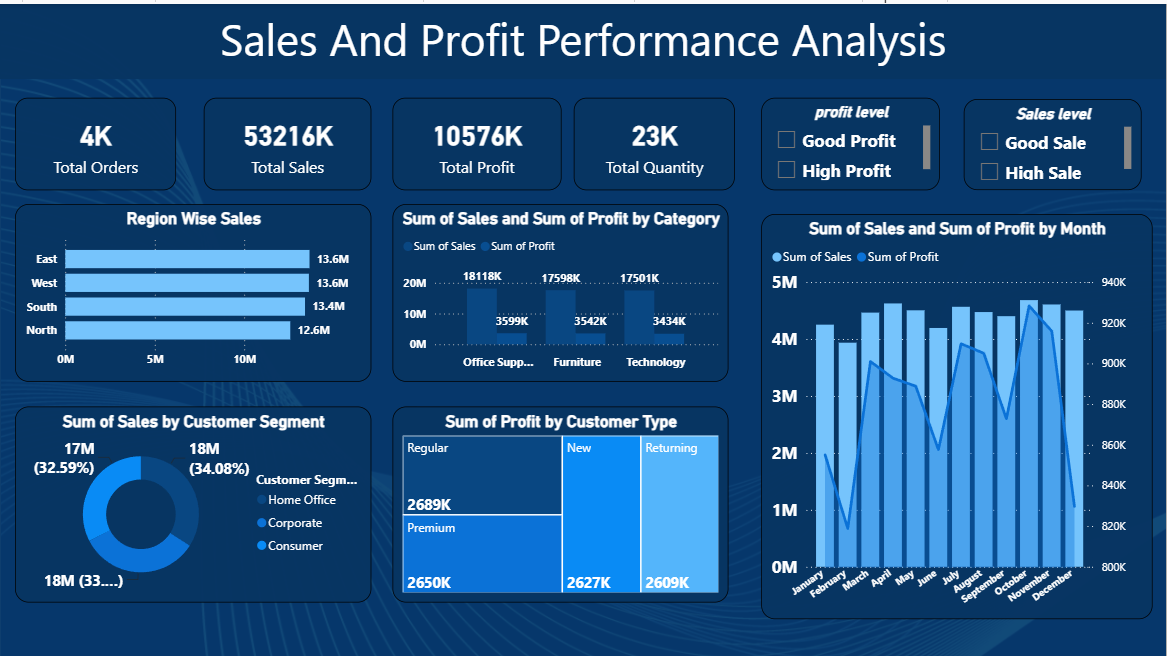

This screenshot's page, from the dashboard's own definition file:
{"tool":"powerbi","page":{"name":"Page 1","canvas":[1280,720],"ordinal":0},"visuals":[{"type":"textbox","box":[0,0,1280.3,82.3],"z":0},{"type":"card","fields":{"Values":["Superstore_Data_2_1.Total Sales"]},"box":[223.7,102.9,183.9,101.5],"z":1000},{"type":"card","fields":{"Values":["Superstore_Data_2_1.Total Orders"]},"box":[16.5,102.9,177,101.5],"z":2000},{"type":"card","fields":{"Values":["Superstore_Data_2_1.Total Profit"]},"box":[430.9,102.9,185.2,101.5],"z":3000},{"type":"card","fields":{"Values":["Superstore_Data_2_1.Total Quantity"]},"box":[629.8,102.9,177,101.5],"z":4000},{"type":"slicer","fields":{"Values":["Superstore_Data_2_1.Sales level"]},"box":[1058,104.3,194.9,100.2],"z":5000},{"type":"slicer","fields":{"Values":["Superstore_Data_2_1.Profit level"]},"box":[835.7,102.9,196.2,101.5],"z":6000},{"type":"barChart","title":"Region Wise Sales","fields":{"Category":["Superstore_Data_2_1.Region"],"Y":["Sum(Superstore_Data_2_1.Sales)"]},"box":[16.5,219.6,391.1,194.9],"z":7000},{"type":"clusteredColumnChart","fields":{"Category":["Superstore_Data_2_1.Category"],"Y":["Sum(Superstore_Data_2_1.Sales)","Sum(Superstore_Data_2_1.Profit)"]},"box":[430.9,219.6,369.1,194.9],"z":8000},{"type":"donutChart","fields":{"Category":["Superstore_Data_2_1.Customer Segment"],"Y":["Sum(Superstore_Data_2_1.Sales)"]},"box":[16.5,441.9,391.1,215.4],"z":9000},{"type":"treemap","fields":{"Group":["Superstore_Data_2_1.Customer Type"],"Values":["Sum(Superstore_Data_2_1.Profit)"]},"box":[430.9,441.9,369.1,215.4],"z":10000},{"type":"lineClusteredColumnComboChart","fields":{"Category":["Superstore_Data_2_1.Order Date.Variation.Date Hierarchy.Month"],"Y":["Sum(Superstore_Data_2_1.Sales)"],"Y2":["Sum(Superstore_Data_2_1.Profit)"]},"box":[835.7,230.5,429.5,444.6],"z":11000}]}

Visuals, with their boxes in screenshot pixels (x1, y1, x2, y2), scaled from the page's 1280x720 canvas onto the 1167x656 screenshot:
textbox: left=0, top=0, right=1166, bottom=75
card - Superstore_Data_2_1.Total Sales: left=204, top=94, right=372, bottom=186
card - Superstore_Data_2_1.Total Orders: left=15, top=94, right=176, bottom=186
card - Superstore_Data_2_1.Total Profit: left=393, top=94, right=562, bottom=186
card - Superstore_Data_2_1.Total Quantity: left=574, top=94, right=736, bottom=186
slicer - Superstore_Data_2_1.Sales level: left=965, top=95, right=1142, bottom=186
slicer - Superstore_Data_2_1.Profit level: left=762, top=94, right=941, bottom=186
"Region Wise Sales" barChart: left=15, top=200, right=372, bottom=378
clusteredColumnChart - Superstore_Data_2_1.Category x Sum(Superstore_Data_2_1.Sales): left=393, top=200, right=729, bottom=378
donutChart - Superstore_Data_2_1.Customer Segment x Sum(Superstore_Data_2_1.Sales): left=15, top=403, right=372, bottom=599
treemap - Superstore_Data_2_1.Customer Type x Sum(Superstore_Data_2_1.Profit): left=393, top=403, right=729, bottom=599
lineClusteredColumnComboChart - Superstore_Data_2_1.Order Date.Variation.Date Hierarchy.Month x Sum(Superstore_Data_2_1.Sales): left=762, top=210, right=1154, bottom=615
